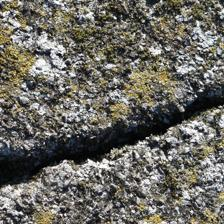Crack: (2, 43, 219, 158)
